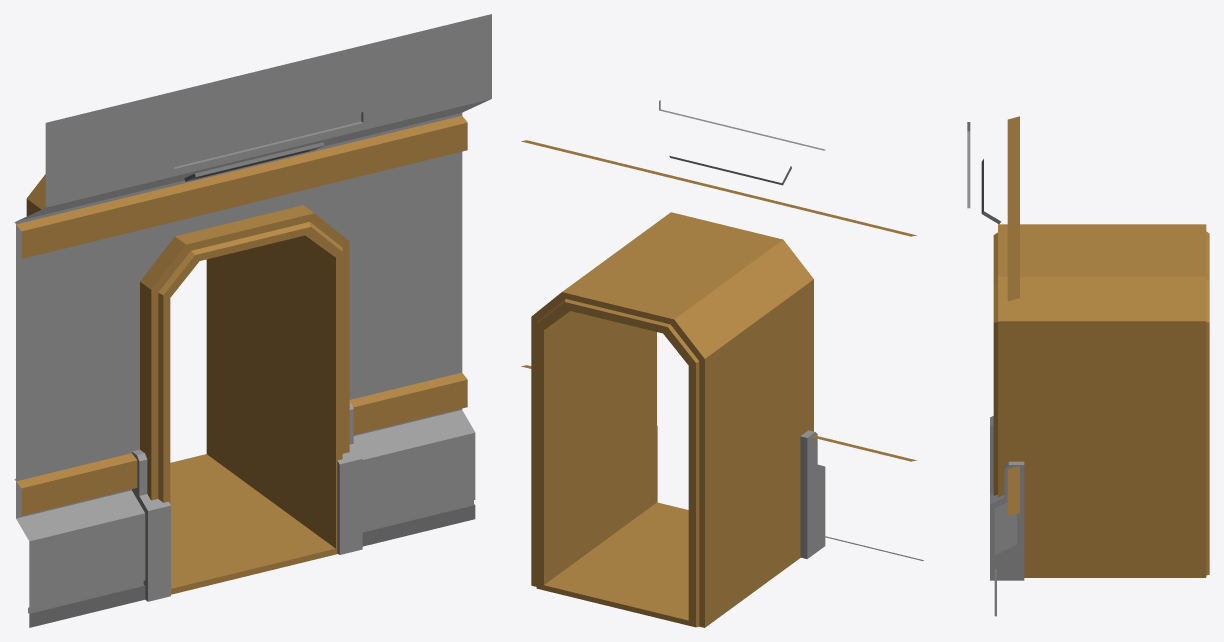
3 views of the same model, side by side, from view 1: azimuth 30°, elevation 25°; view 2: azimuth 150°, elevation 25°; view 3: azimuth 270°, elevation 25° (orthographic). The views are drawn at different scales.
Visible parts, largest first — view 1: DoorSingleLong_Wall_SideA; view 2: DoorSingleLong_Wall_SideA; view 3: DoorSingleLong_Wall_SideA.
Boxes of the visible parts, x1,y1,x2,y2 form: DoorSingleLong_Wall_SideA: (14, 14, 491, 627); DoorSingleLong_Wall_SideA: (521, 100, 923, 627); DoorSingleLong_Wall_SideA: (967, 116, 1209, 616).
Size of the model in its own units: 4 by 4.44 by 2.25.
